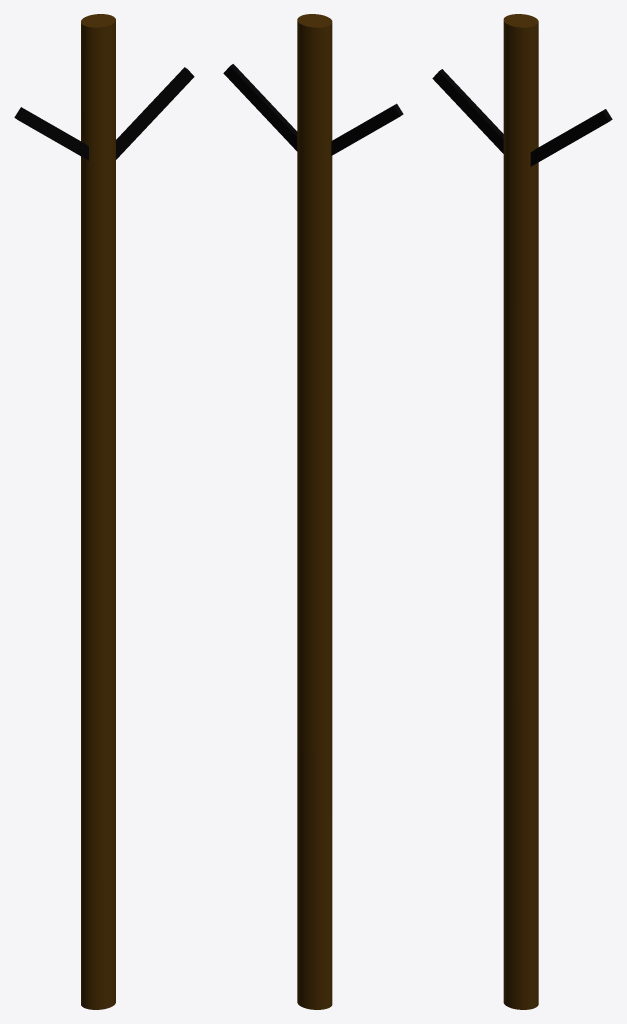
File: power_line_03.glb
3 renders of one model, left to right at view 1: azimuth 30°, elevation 25°; view 2: azimuth 150°, elevation 25°; view 3: azimuth 330°, elevation 25°, orthographic.
Parts seen in each view (by area): view 1: PowerLine03; view 2: PowerLine03; view 3: PowerLine03.
Part boxes in pixels (x1=…): PowerLine03: x1=14, y1=14, x2=194, y2=1009; PowerLine03: x1=223, y1=14, x2=403, y2=1009; PowerLine03: x1=432, y1=14, x2=612, y2=1009.
Size of the model in its own units: 5.28 by 28 by 0.796.
